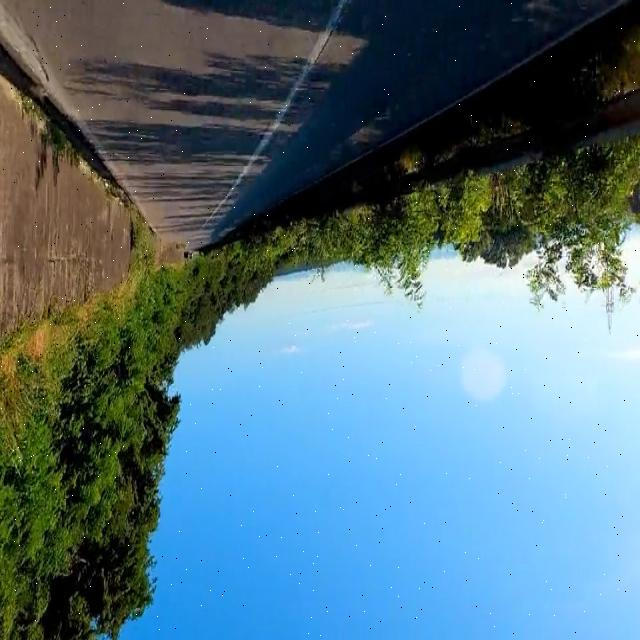lane: (204, 1, 348, 228)
road: (1, 2, 615, 250)
